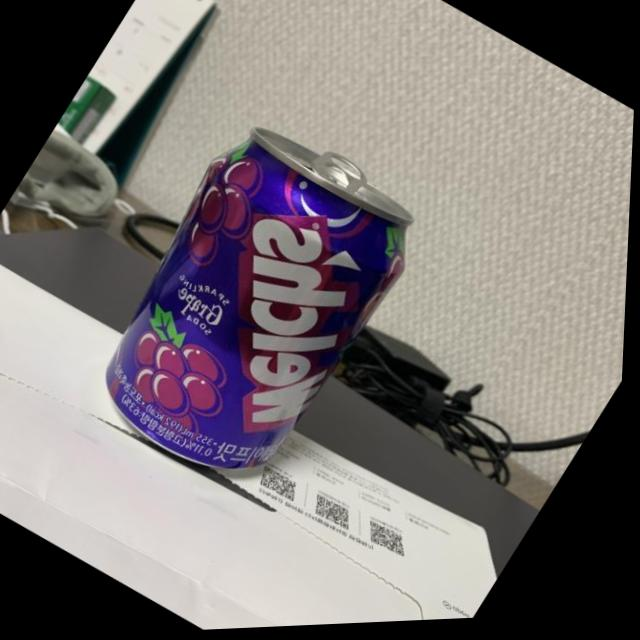metal: (107, 129, 446, 467)
